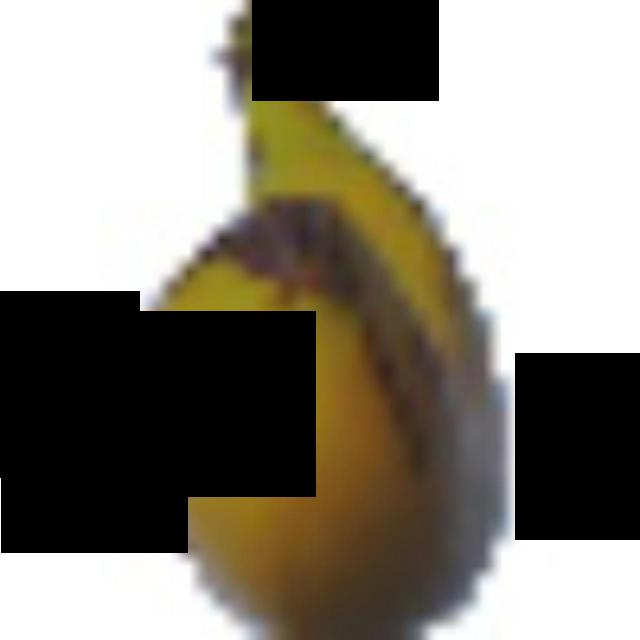banana: (115, 0, 531, 634)
